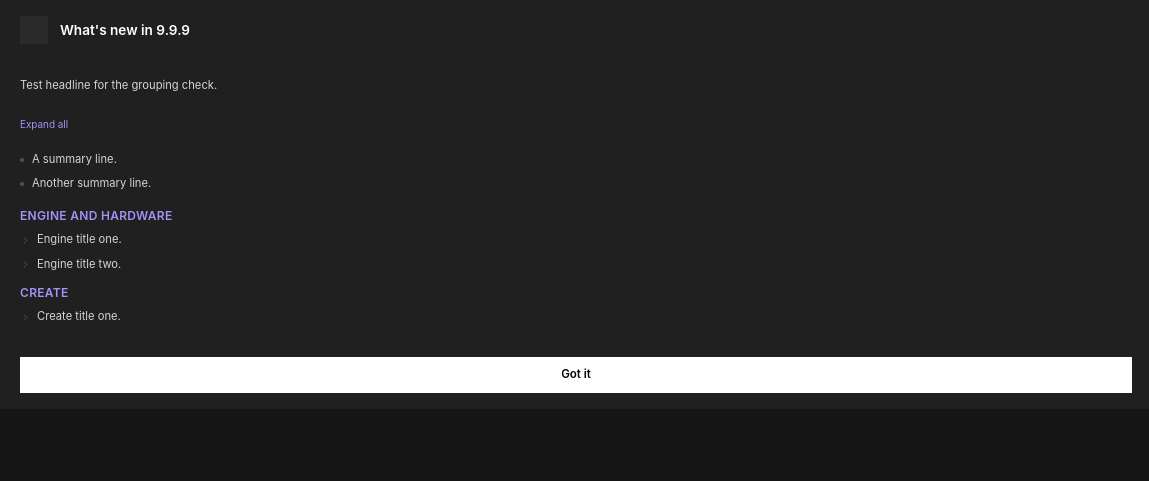
it: grouped changes › Expand all opens every row at once, and toggles back to Collapse all
Click the button "Expand all". click: {"x": 44, "y": 125}
box: [14,115,74,134]
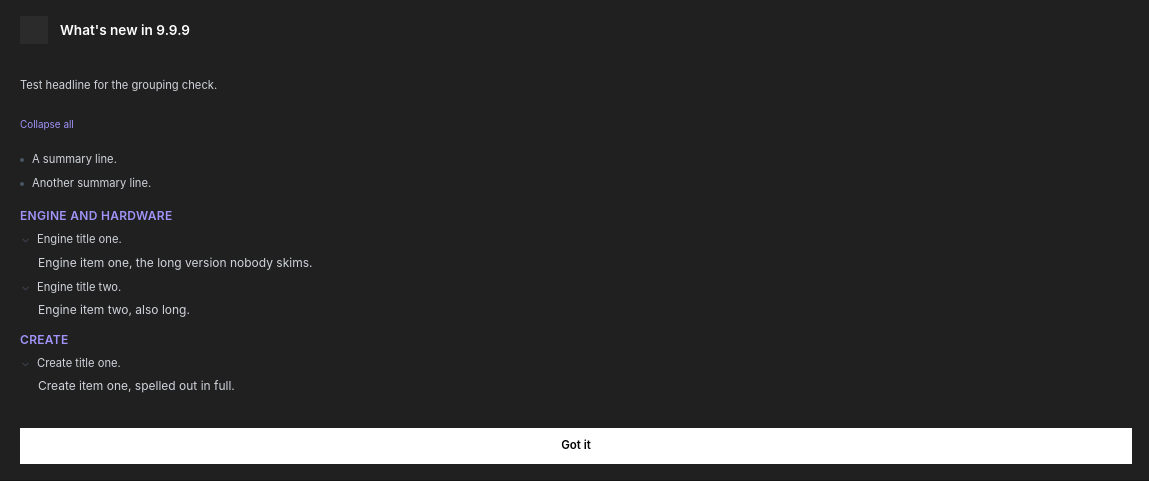
Result: the text "Engine item one, the long version nobody skims." is shown at [38,255,312,270]
Result: the text "Engine item two, also long." is shown at [38,302,190,317]
Result: the text "Create item one, spelled out in full." is shown at [38,378,235,393]
Click the button "Collapse all". click: {"x": 47, "y": 125}
box: [14,115,80,134]
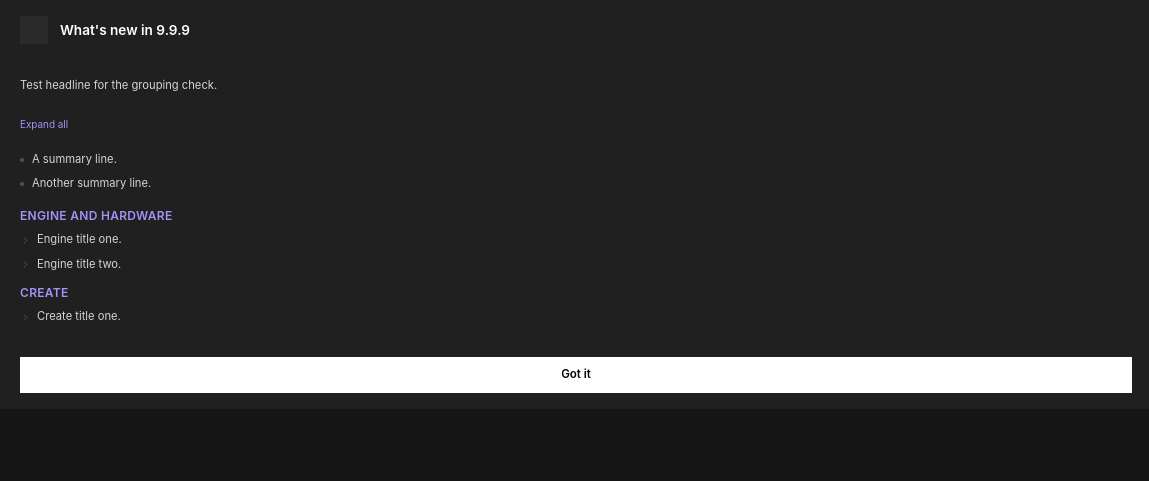
Result: the text "Engine item one, the long version nobody skims." is gone
